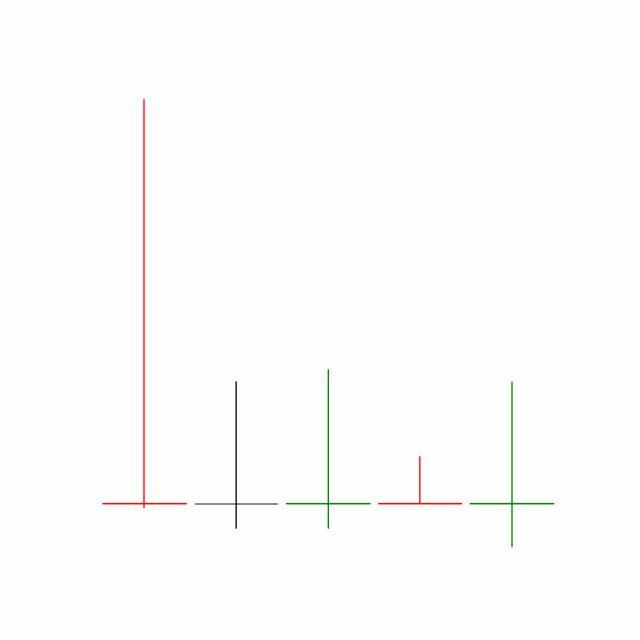Gravestone Doji: (374, 456, 468, 505)
